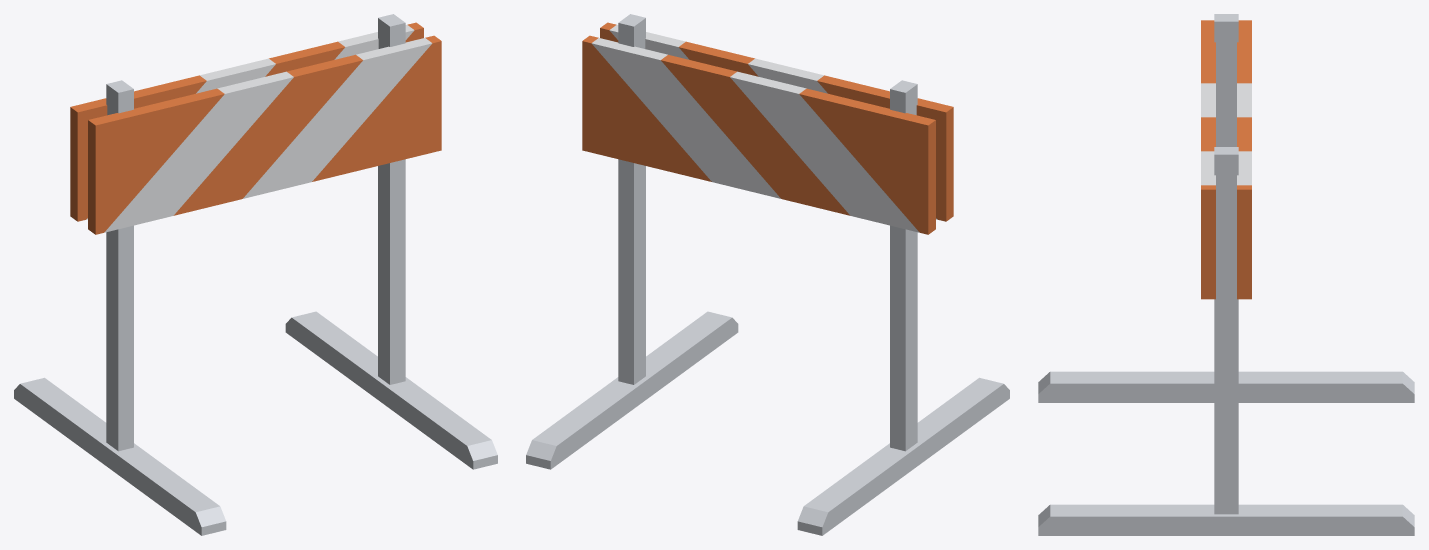
Rendered from Wood_Road_Block_Small_005.glb.
3 renders of one model, left to right at view 1: azimuth 30°, elevation 25°; view 2: azimuth 150°, elevation 25°; view 3: azimuth 270°, elevation 25°, orthographic.
Parts seen in each view (by area): view 1: Wood Road Block Small.005; view 2: Wood Road Block Small.005; view 3: Wood Road Block Small.005.
Part boxes in pixels (bbox=[...]): Wood Road Block Small.005: bbox=[14, 14, 497, 535]; Wood Road Block Small.005: bbox=[526, 14, 1009, 535]; Wood Road Block Small.005: bbox=[1038, 14, 1414, 535].
Size of the model in its own units: 6.62 by 6.91 by 6.21.
Materials: 1 (1 with a texture image).
